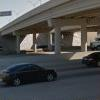Bridge: (5, 1, 89, 42)
